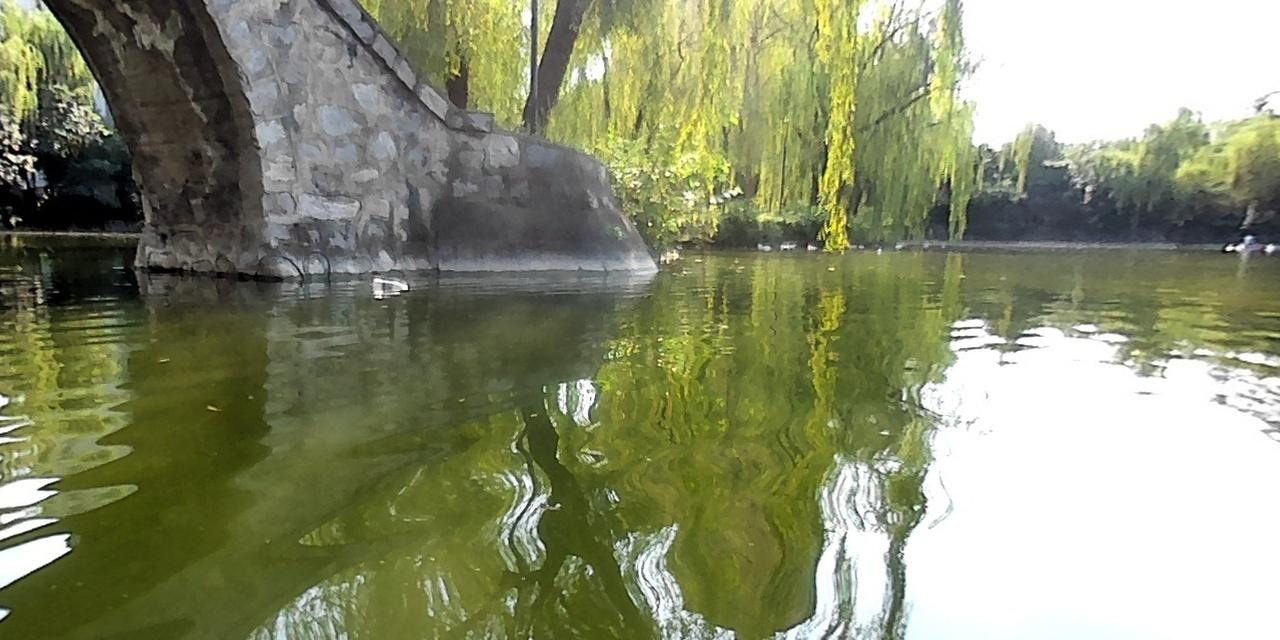bottle: (371, 277, 408, 294)
